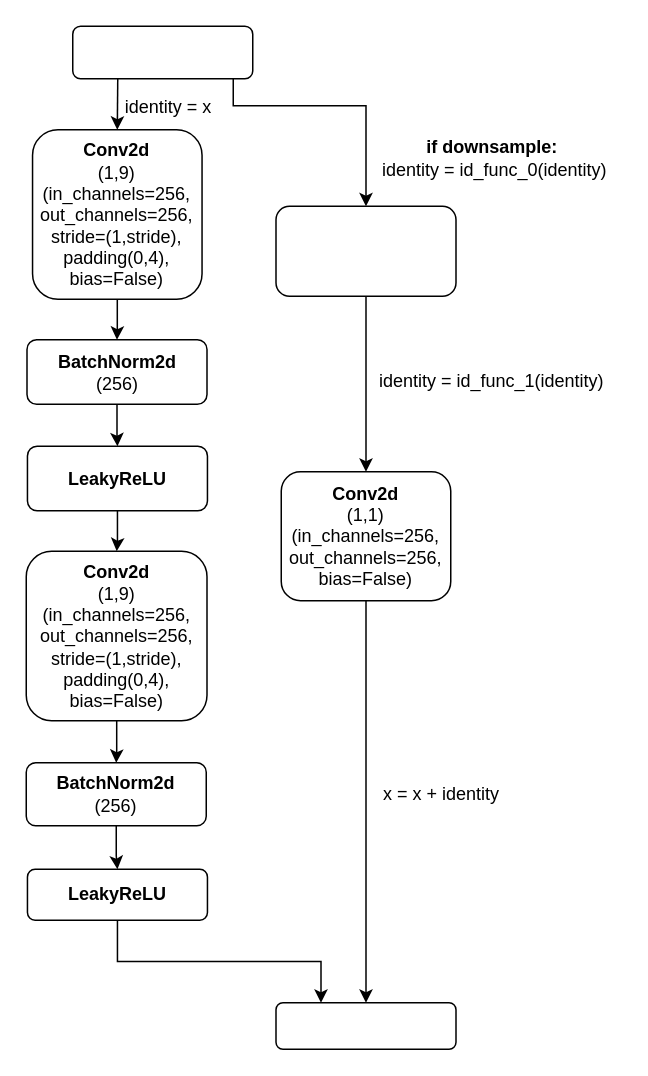
The diagram is 648 pixels wide and 1076 high, and some of its shapes have lost their labels. The shapes that lost their labels are listed below. From the top down, each one's centre as x and y in pixels, then its label:
At (x=162, y=52): "Input Tensor".
At (x=365, y=250): "AvgPool2d (kernel_size=(1,2), stride=(1,2))".
At (x=365, y=1025): "Output Tensor".
